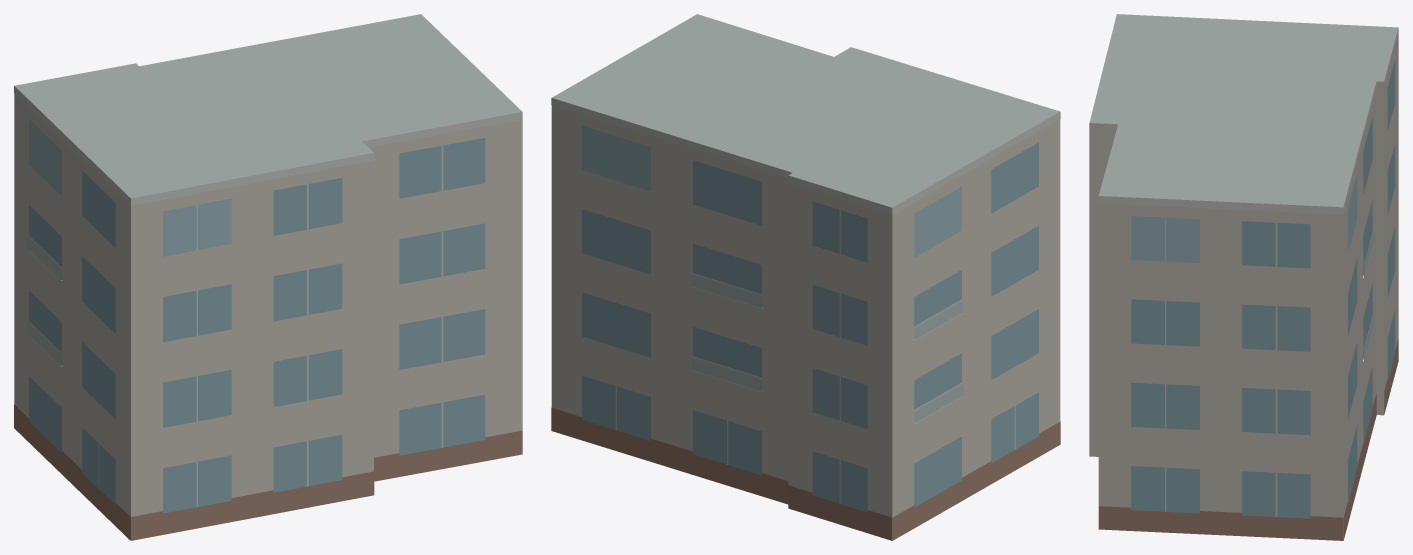
File: survey-upis-32572089.glb
3 renders of one model, left to right at view 1: azimuth 30°, elevation 25°; view 2: azimuth 150°, elevation 25°; view 3: azimuth 270°, elevation 25°, orthographic. The views are drawn at different scales.
Visible parts, largest first — view 1: survey-upis-32572089.tmp; view 2: survey-upis-32572089.tmp; view 3: survey-upis-32572089.tmp.
Part boxes in pixels (box(x1,y1,x2,y2)): survey-upis-32572089.tmp: box(14, 14, 522, 540); survey-upis-32572089.tmp: box(551, 14, 1060, 540); survey-upis-32572089.tmp: box(1089, 14, 1398, 540).
Bounding box in the file's own units: 13.68 × 11 × 9.25.
